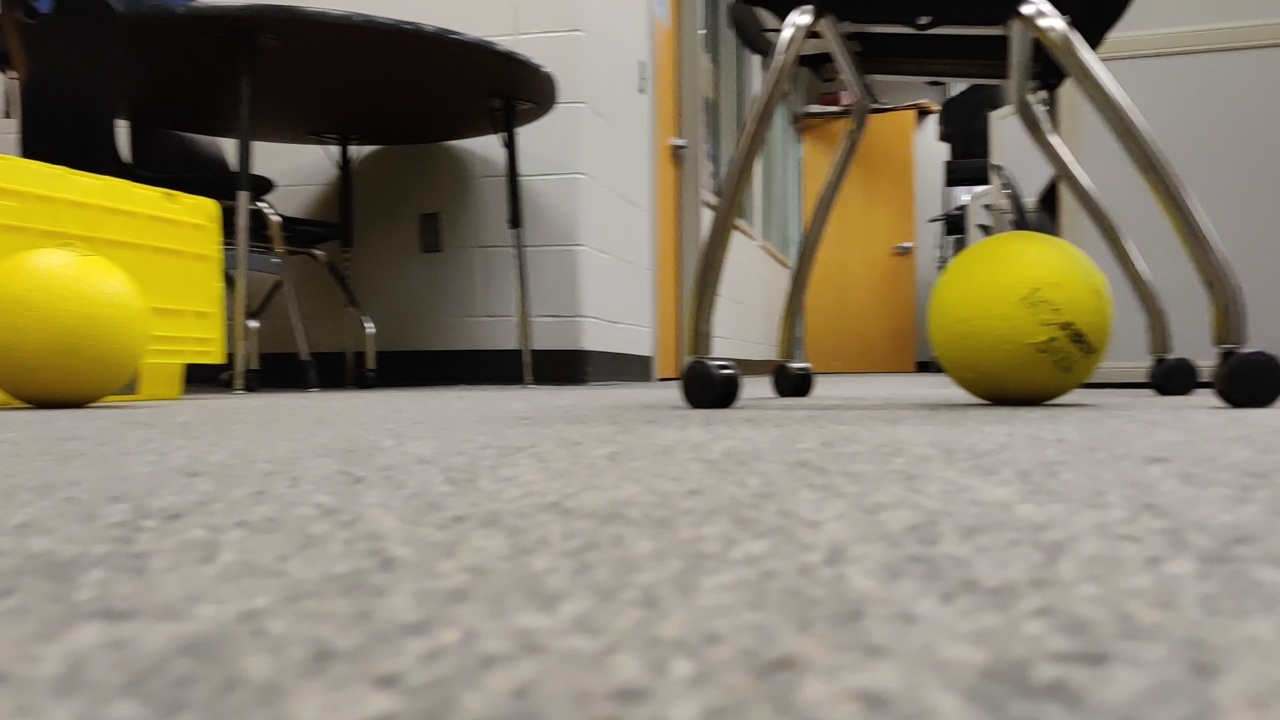Ball: (921, 217, 1119, 418), (1, 244, 163, 392)
